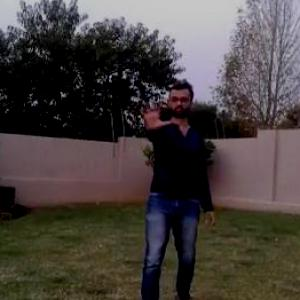follow_hand: (136, 93, 174, 134)
